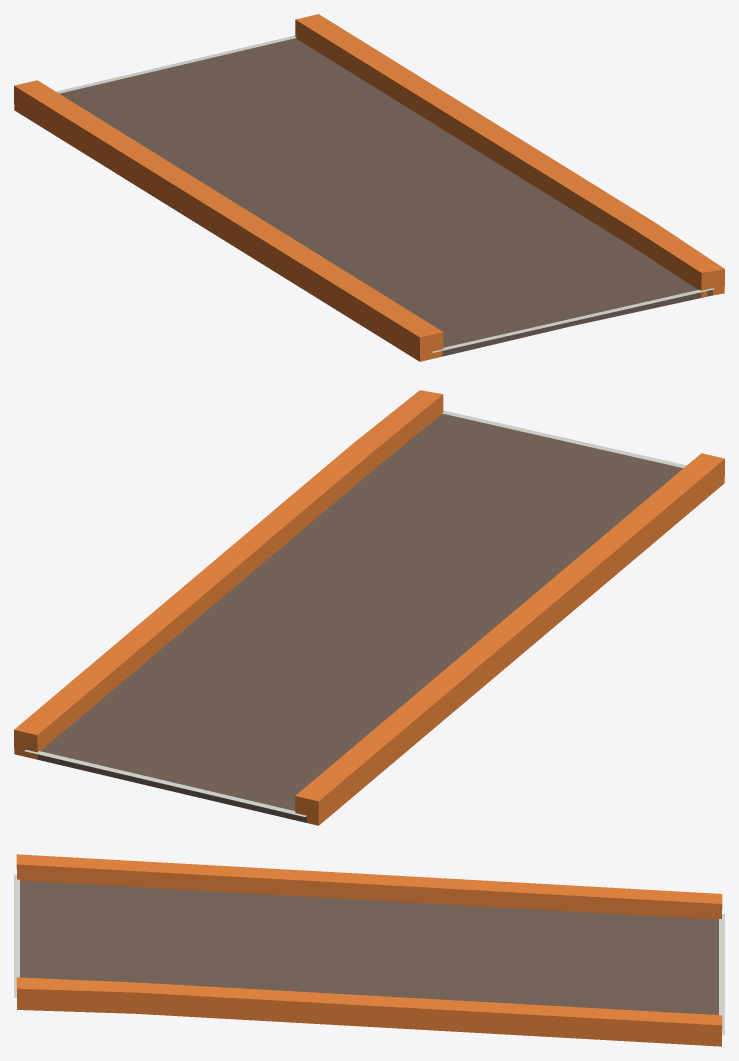
The model's file is SM_MP_Film_A_1_2.fbx.
The picture shows the model from 3 angles, top to bottom: view 1: azimuth 30°, elevation 25°; view 2: azimuth 150°, elevation 25°; view 3: azimuth 270°, elevation 25°; orthographic projection. The views are drawn at different scales.
Parts seen in each view (by area): view 1: SM_MP_Film_A_1_2; view 2: SM_MP_Film_A_1_2; view 3: SM_MP_Film_A_1_2.
Boxes of the visible parts, <box> form: SM_MP_Film_A_1_2: <box>14,14,724,361</box>; SM_MP_Film_A_1_2: <box>14,390,724,825</box>; SM_MP_Film_A_1_2: <box>14,854,724,1046</box>.
Size of what is drawn, in the model's own units: 260 by 605 by 59.34.
